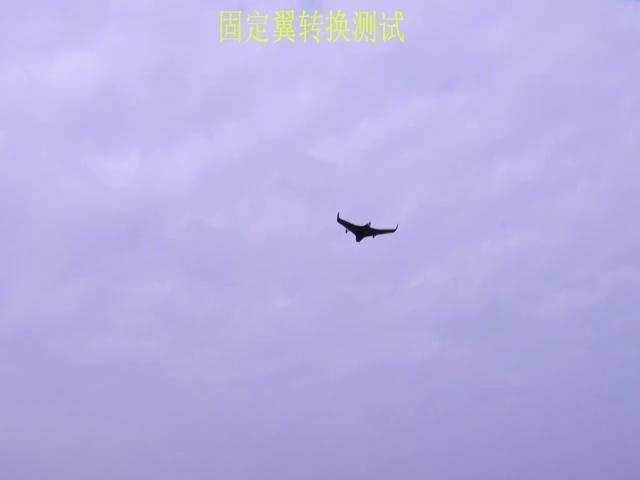Airplane: (336, 211, 399, 243)
